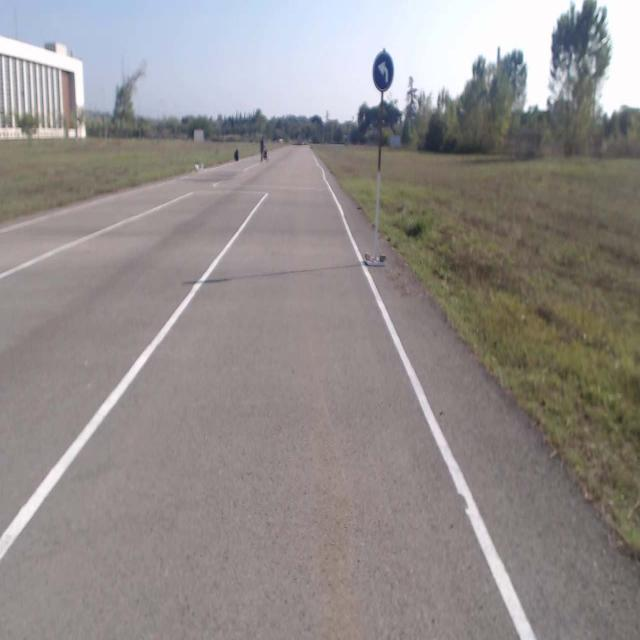sol: (372, 52, 394, 92)
